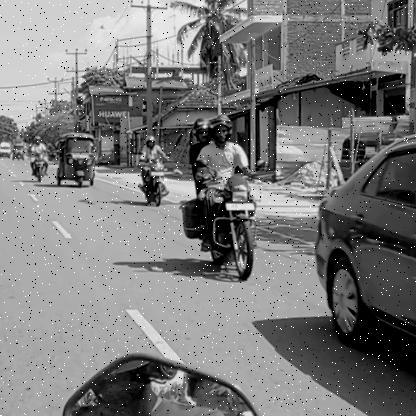motorcycle: (178, 174, 268, 284), (134, 156, 172, 208)
